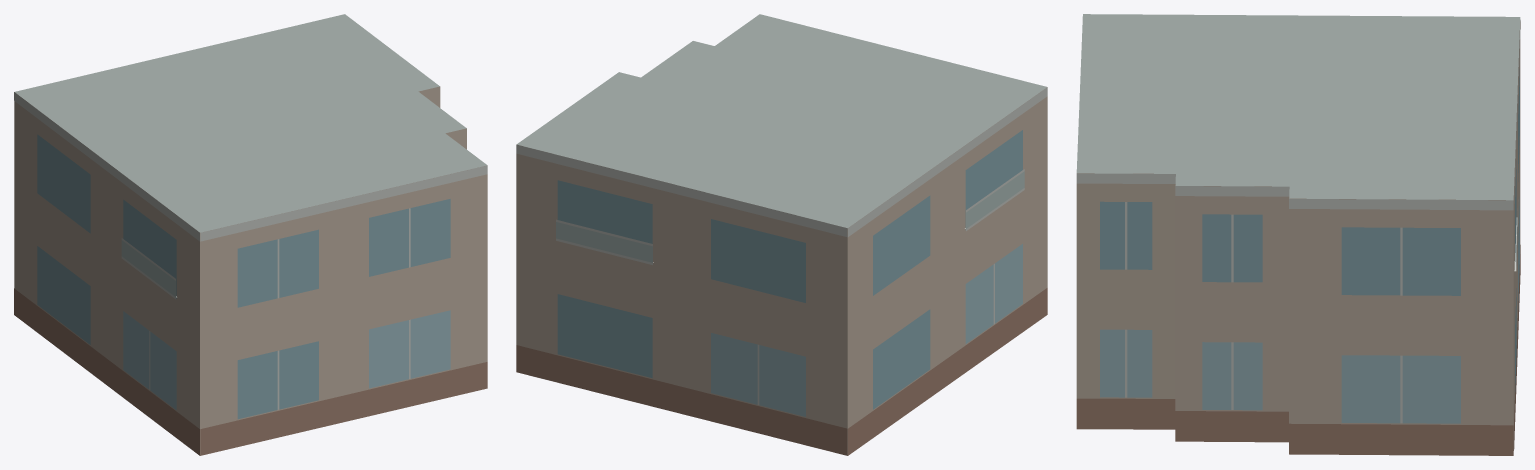
Rendered from survey-upis-32818208.glb.
The picture shows the model from 3 angles, left to right: view 1: azimuth 30°, elevation 25°; view 2: azimuth 150°, elevation 25°; view 3: azimuth 270°, elevation 25°; orthographic projection. The views are drawn at different scales.
Parts seen in each view (by area): view 1: survey-upis-32818208.tmp; view 2: survey-upis-32818208.tmp; view 3: survey-upis-32818208.tmp.
Boxes of the visible parts, <box> form: survey-upis-32818208.tmp: <box>14,14,487,455</box>; survey-upis-32818208.tmp: <box>516,14,1047,455</box>; survey-upis-32818208.tmp: <box>1076,14,1520,455</box>.
Size of the model in its own units: 9.55 by 6.1 by 9.61.
